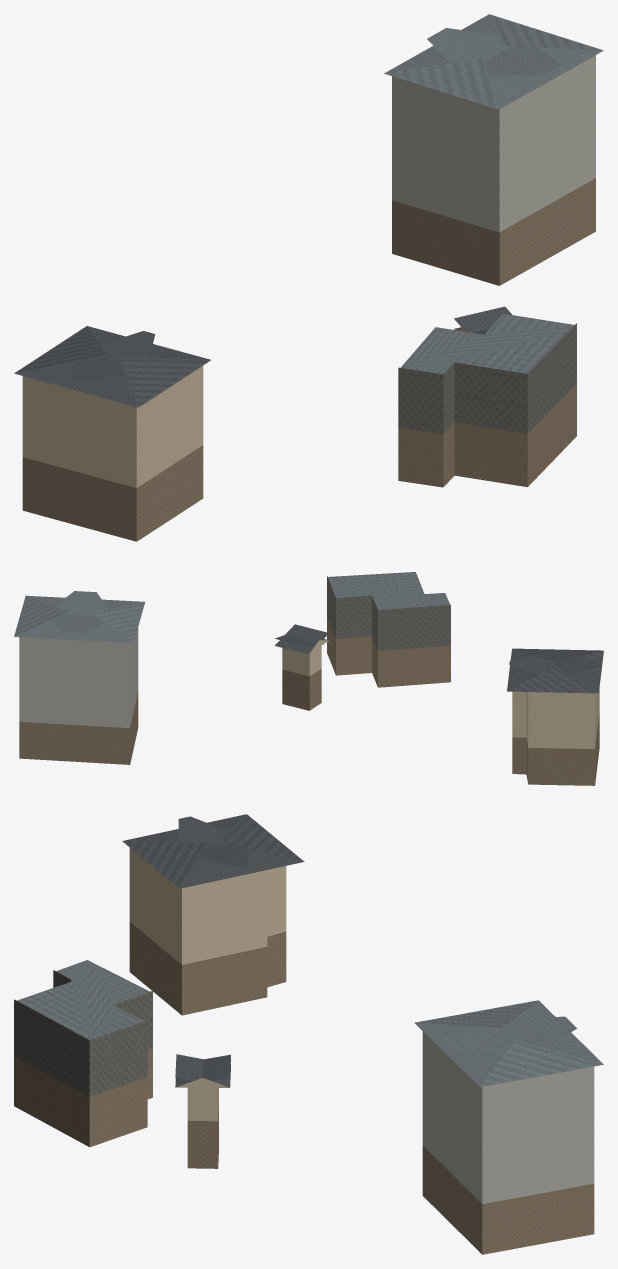
Rendered from bld_c14_23_412.gltf.
3 renders of one model, top to bottom at view 1: azimuth 30°, elevation 25°; view 2: azimuth 150°, elevation 25°; view 3: azimuth 270°, elevation 25°, orthographic. The views are drawn at different scales.
Parts seen in each view (by area): view 1: bld_c14_23_412; view 2: bld_c14_23_412; view 3: bld_c14_23_412.
Part boxes in pixels (x1,y1,x2,y2): bld_c14_23_412: (14,14,603,541); bld_c14_23_412: (14,572,603,785); bld_c14_23_412: (14,814,603,1254).
Bounding box in the file's own units: 71.04 × 20.2 × 53.89.
8 materials, 8 textured.
